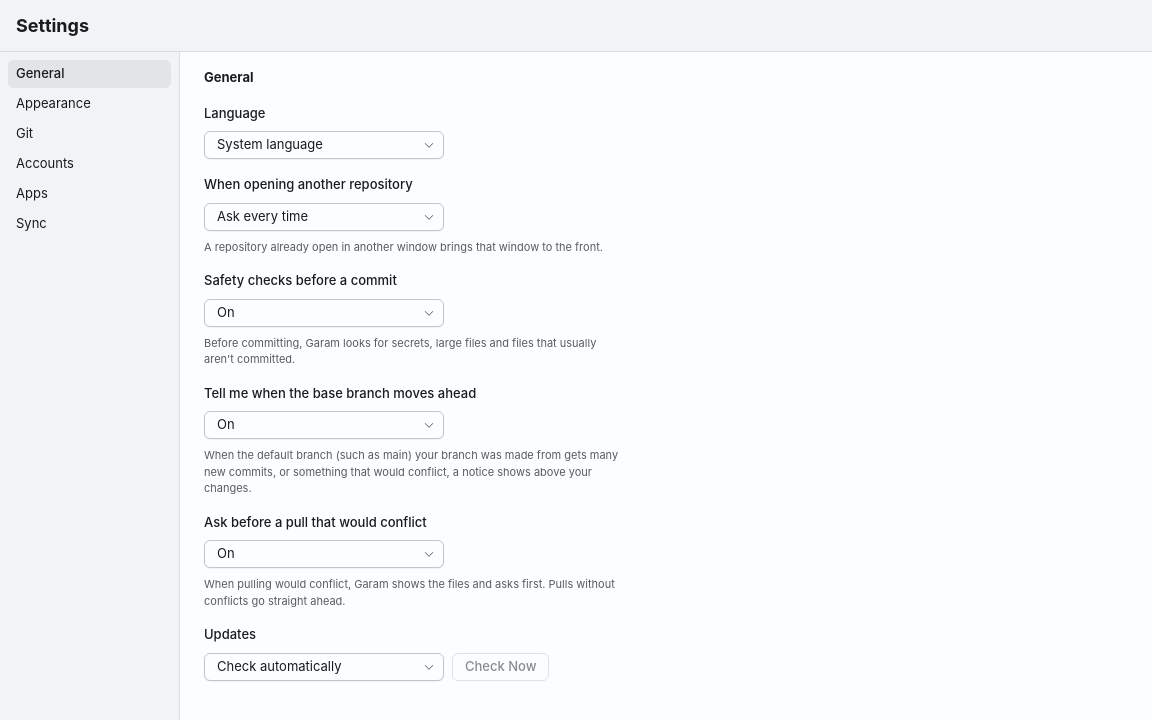
settings › saves git settings when leaving the field
The image size is (1152, 720).
Click the tab "Git" at {"x": 90, "y": 134}, box [8,120,171,148]
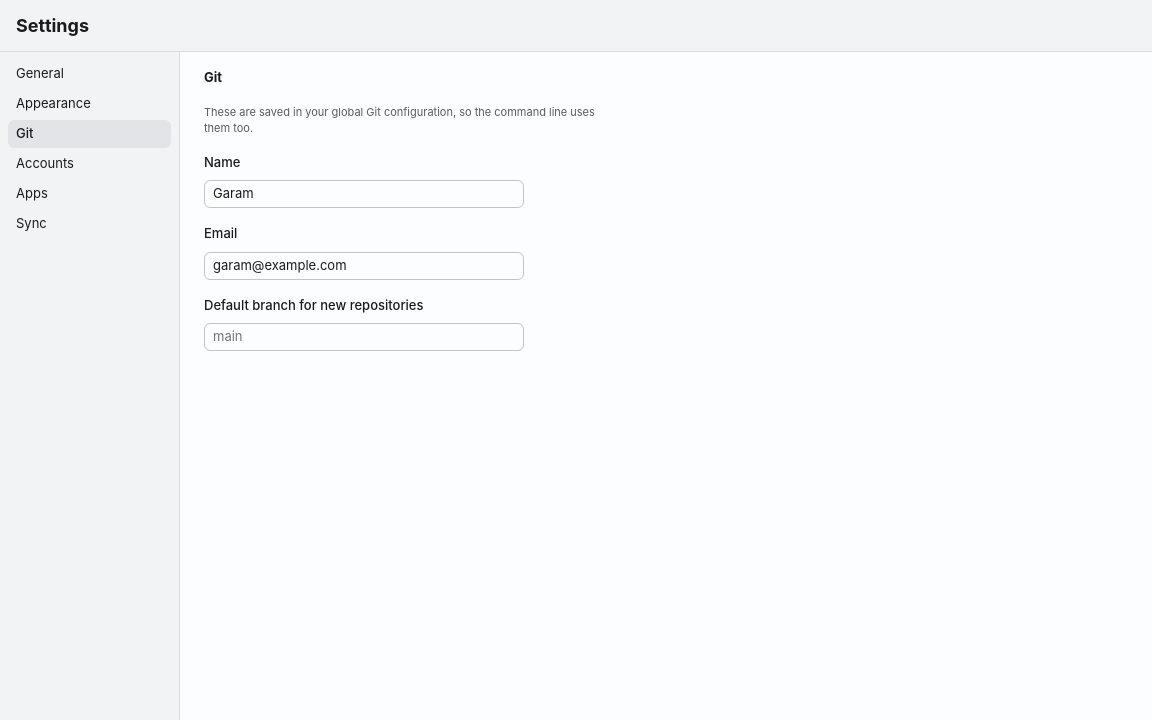
Type "trunk" into the field labelled "Default branch for new repositories" at {"x": 364, "y": 337}, box [204,323,524,351]
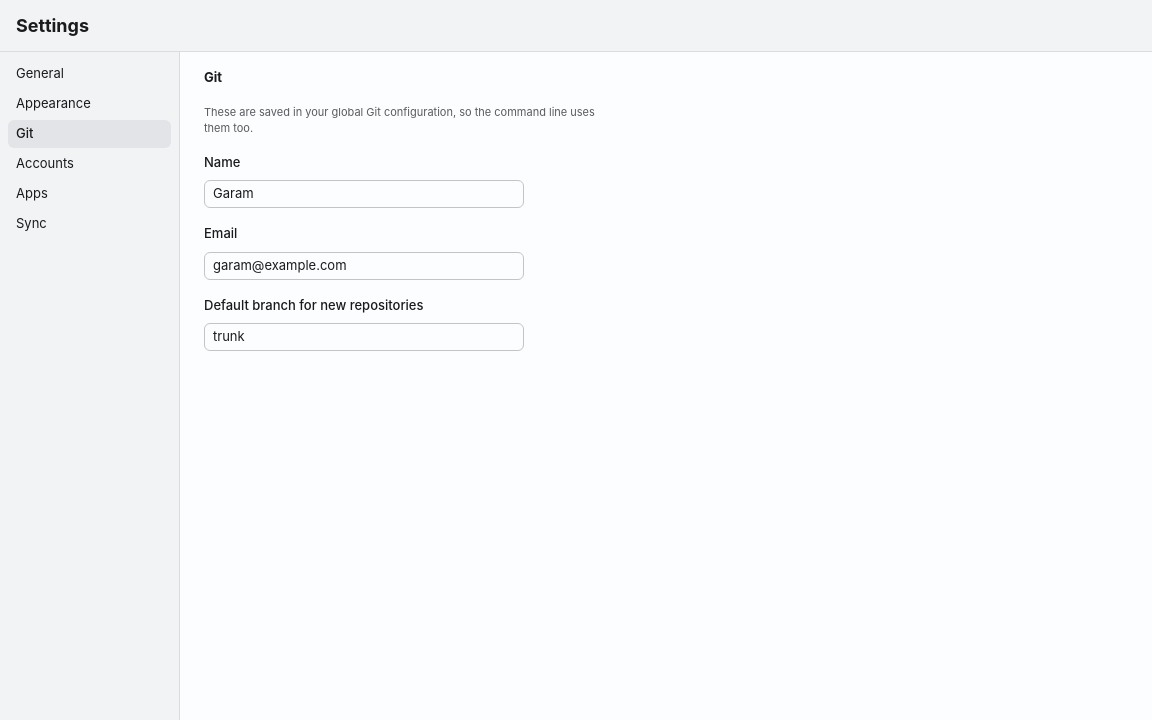
Press Tab
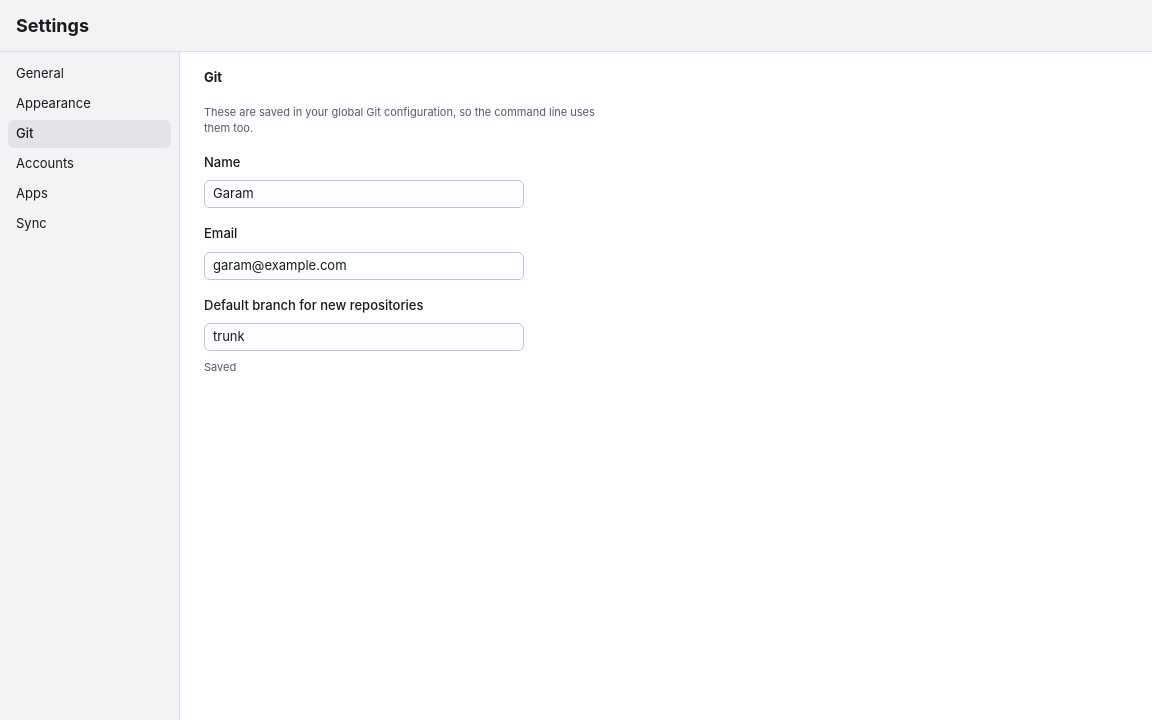
Expected: the text "Saved" is shown, [204,360,236,374]
